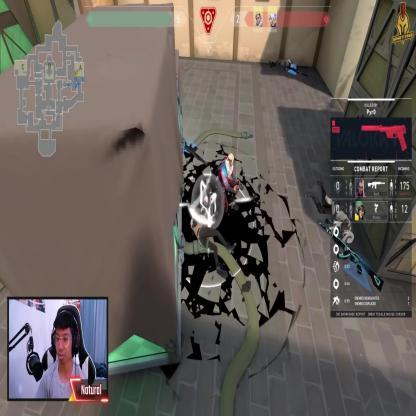enemy: (218, 153, 239, 217)
enemy_head: (227, 153, 234, 167)
